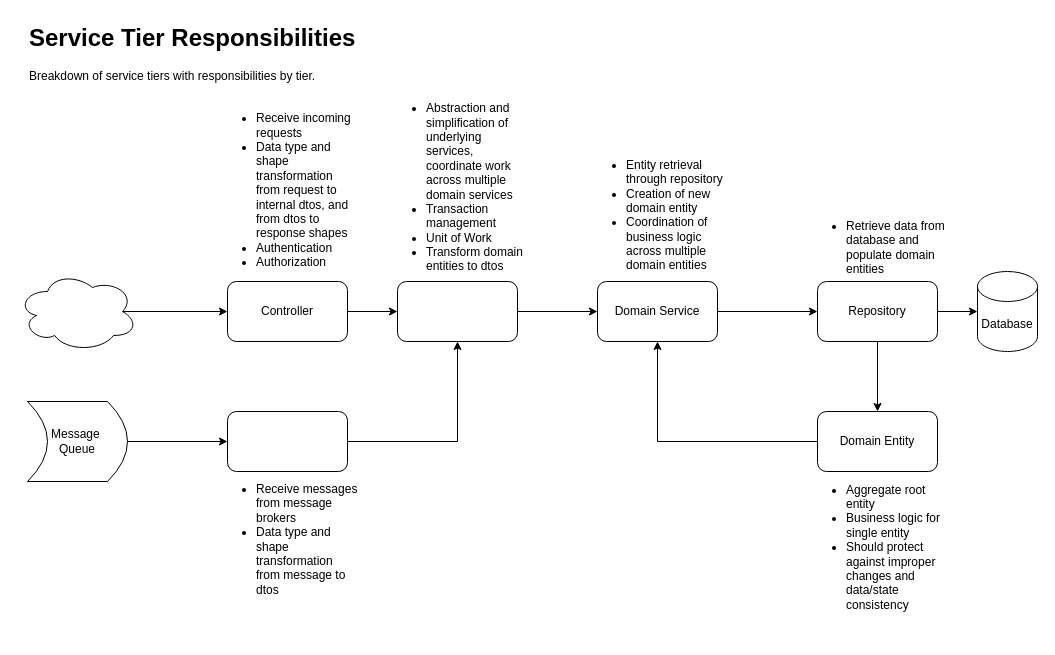
The diagram is 1055 pixels wide and 655 high, and some of its shapes have lost their labels. The centre of each missing label's shape, as x and y in pixels:
"Event Handler" goes at (287,441).
"Facade" goes at (457,311).
"HTTP Request" goes at (77,311).
